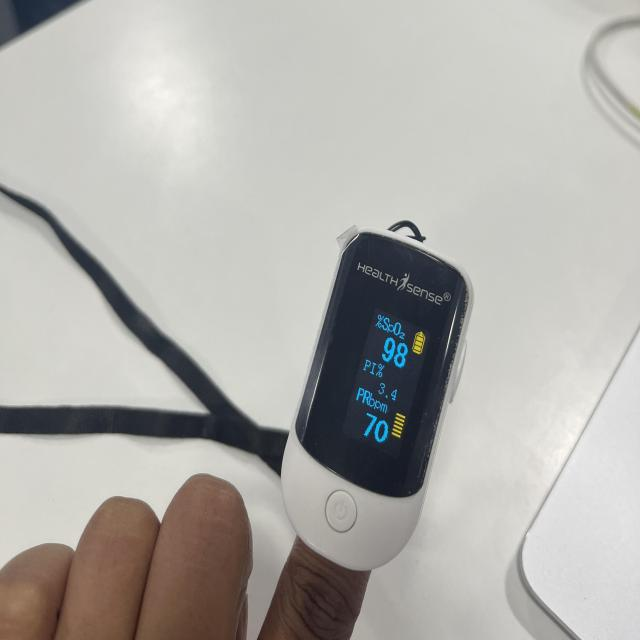spo2: (280, 226, 472, 578)
